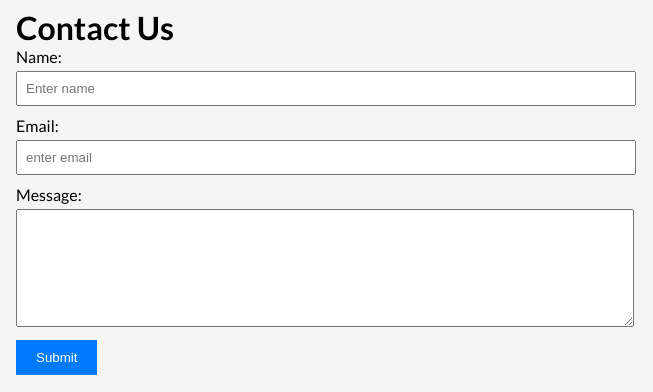
it: Contact Component › should allow user to input values and submit form
Type "John Doe" into the field with placeholder "Enter name" at point(326, 88), box [16, 71, 636, 106]
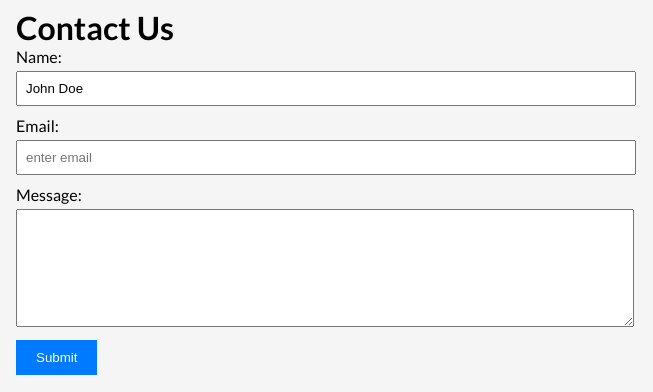
Type "john.doe@example.com" into the field with placeholder "enter email" at point(326, 158), box [16, 140, 636, 175]
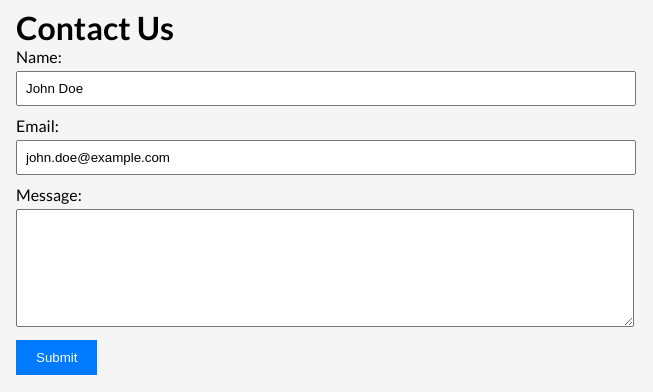
Type "This is a test message." into the text box labelled "Message:" at point(325, 268), box [16, 209, 634, 327]
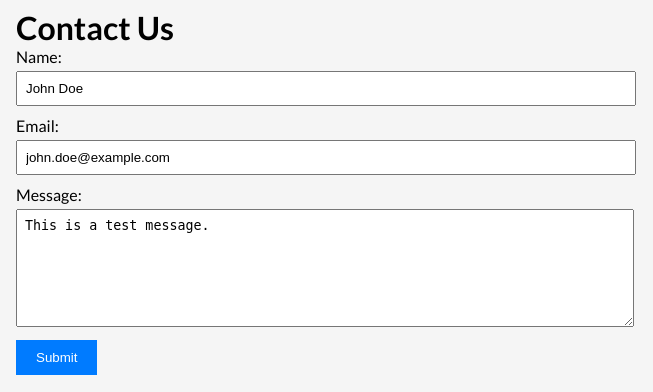
Click the button "Submit" at point(57, 358), box [16, 340, 98, 375]
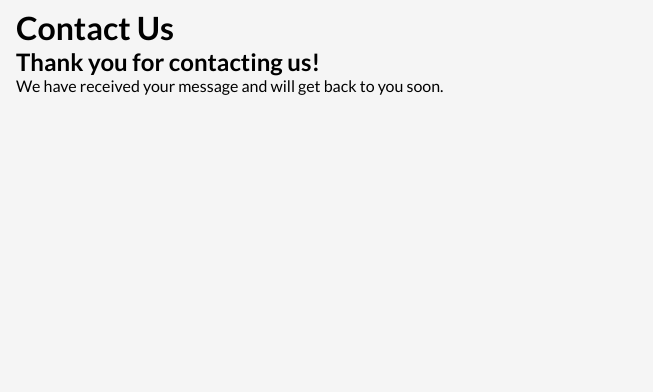
Result: the heading "Thank you for contacting us!" is shown at [16, 47, 320, 76]
Result: the text "We have received your message and will get back to you soon." is shown at [16, 76, 444, 95]
